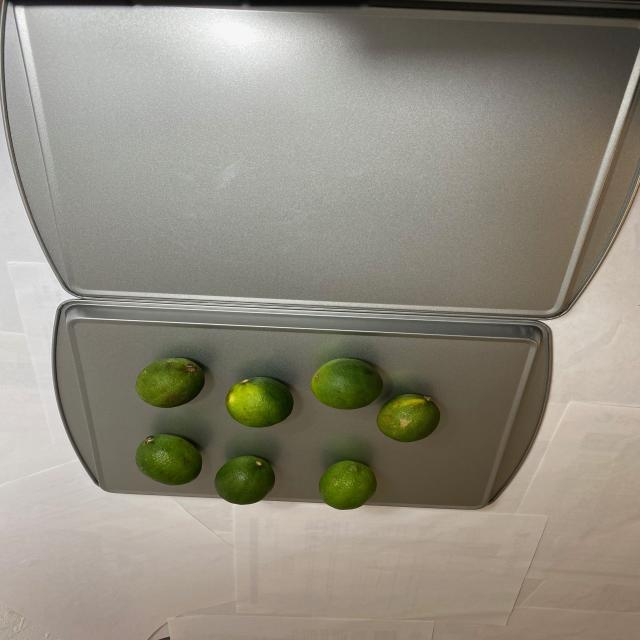lemon: (124, 356, 443, 507)
